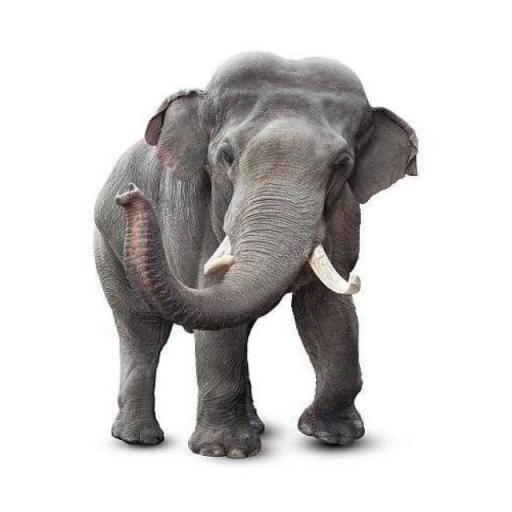Elephant: (92, 49, 419, 459)
